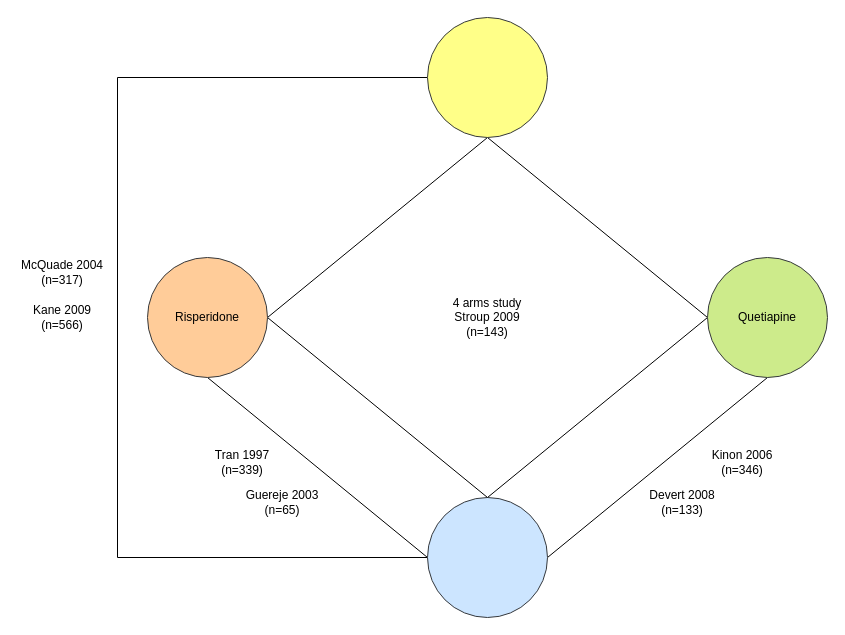
Image size: 845x635. Some labels were removed from this diagram. Each missing label, with the centre of its shape:
"Aripiprazole" belongs at [487,77].
"Olanzapine" belongs at [487,557].
